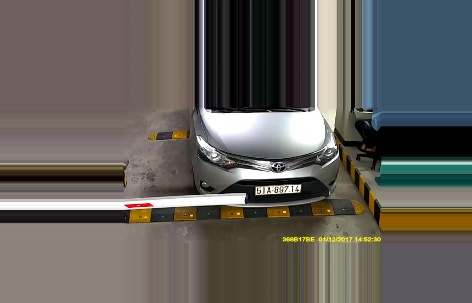plate: (253, 183, 302, 197)
